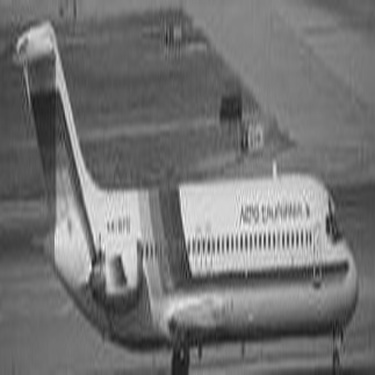airplane: (4, 13, 367, 367)
